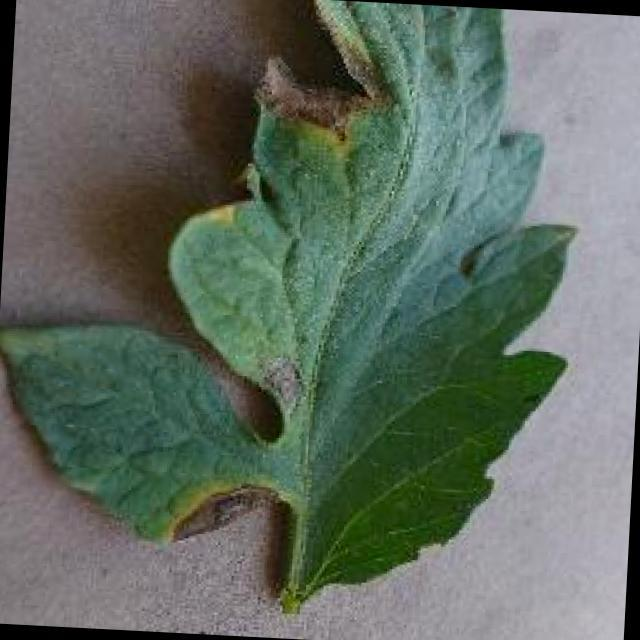Tomato Early blight leaf: (0, 0, 589, 568)
